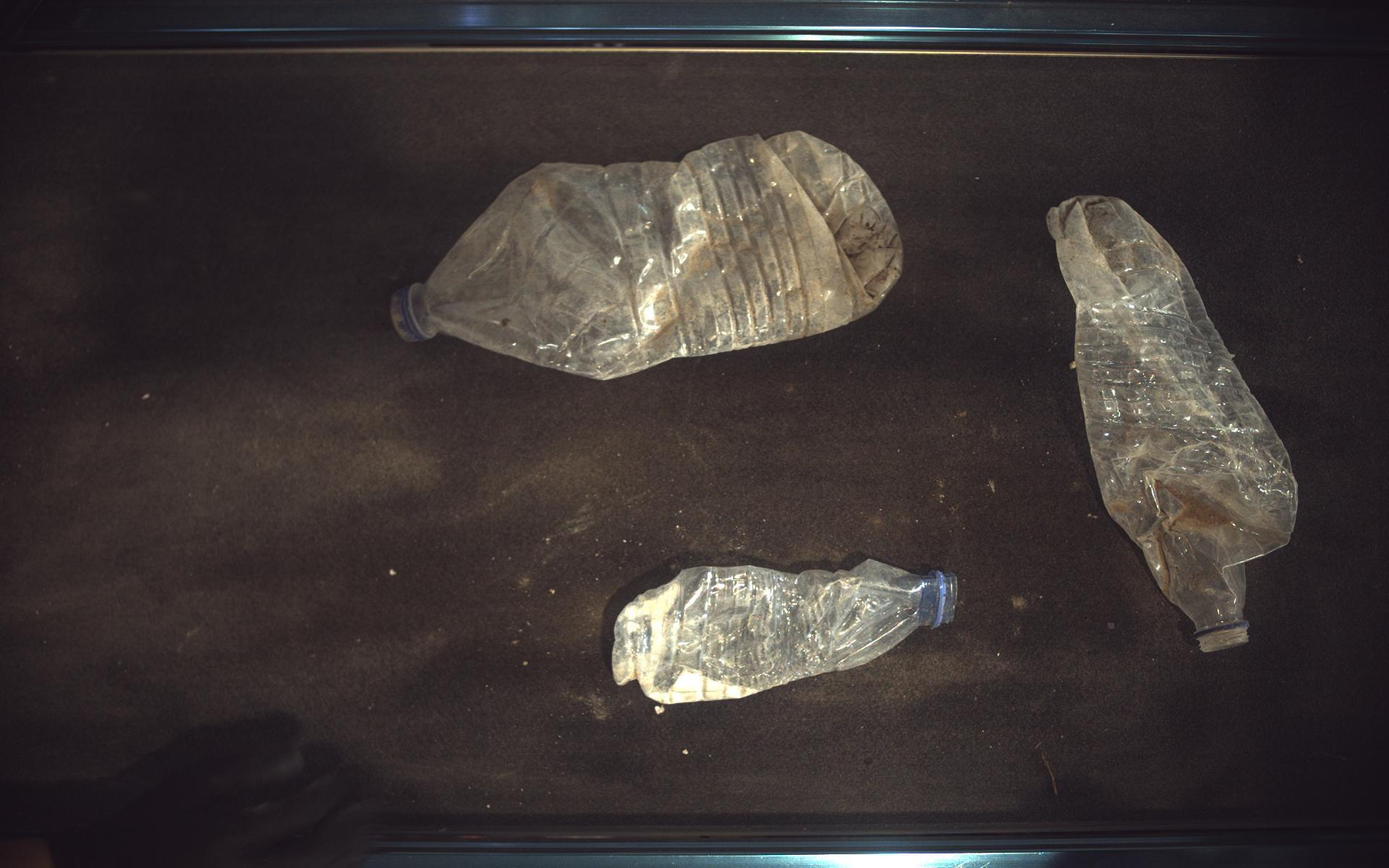general_w: (392, 131, 904, 380), (1049, 195, 1301, 653), (613, 560, 960, 705)
